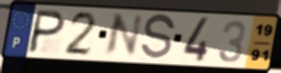2: (63, 10, 100, 57)
3: (218, 19, 247, 64)
4: (181, 15, 211, 65)
N: (101, 12, 145, 59)
P: (24, 8, 68, 55)
S: (138, 13, 177, 62)
